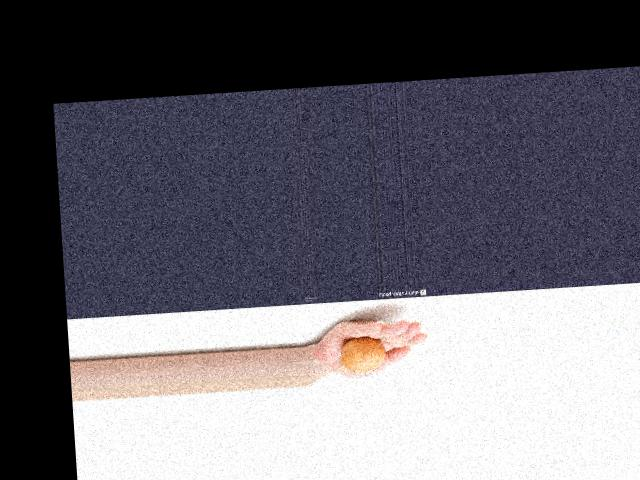egg: (338, 336, 386, 374)
